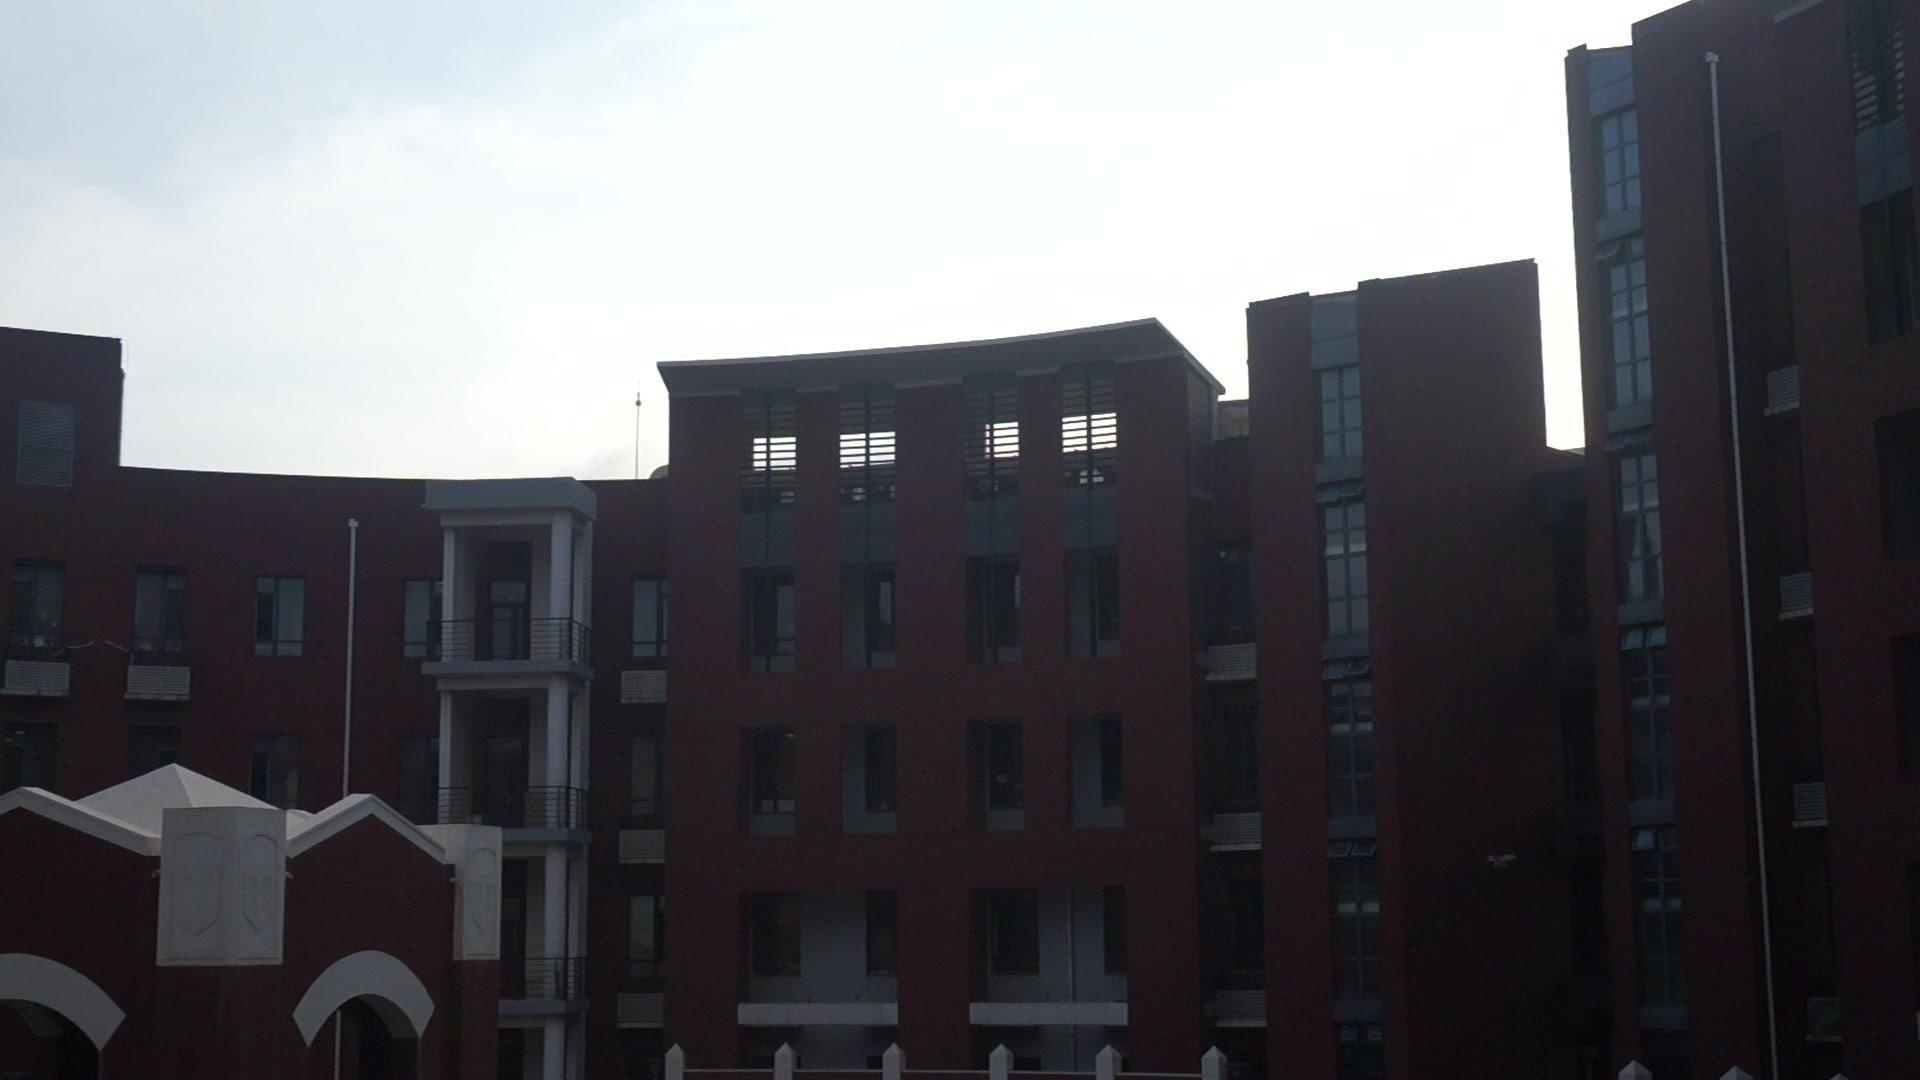UAV: (1487, 855, 1518, 869)
